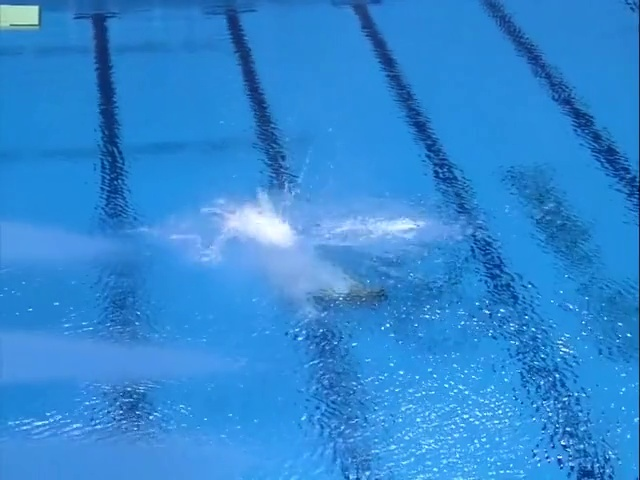splash: (225, 206, 295, 249), (378, 217, 422, 238)
